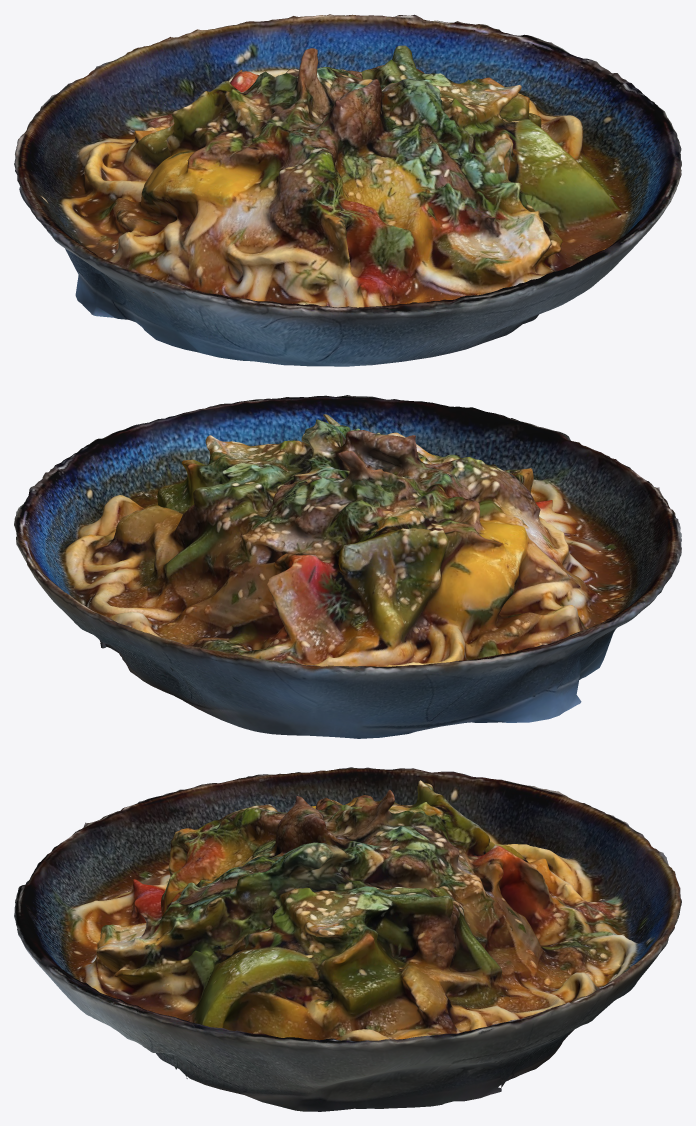
The model's file is noodles.glb.
3 renders of one model, top to bottom at view 1: azimuth 30°, elevation 25°; view 2: azimuth 150°, elevation 25°; view 3: azimuth 270°, elevation 25°, orthographic.
Visible parts, largest first — view 1: mesh; view 2: mesh; view 3: mesh.
Part boxes in pixels (x1,y1,x2,y2): mesh: [14, 14, 681, 366]; mesh: [14, 395, 681, 738]; mesh: [14, 767, 681, 1111].
Size of the model in its own units: 0.2099 by 0.0708 by 0.2087.
Materials: 1 (1 with a texture image).
